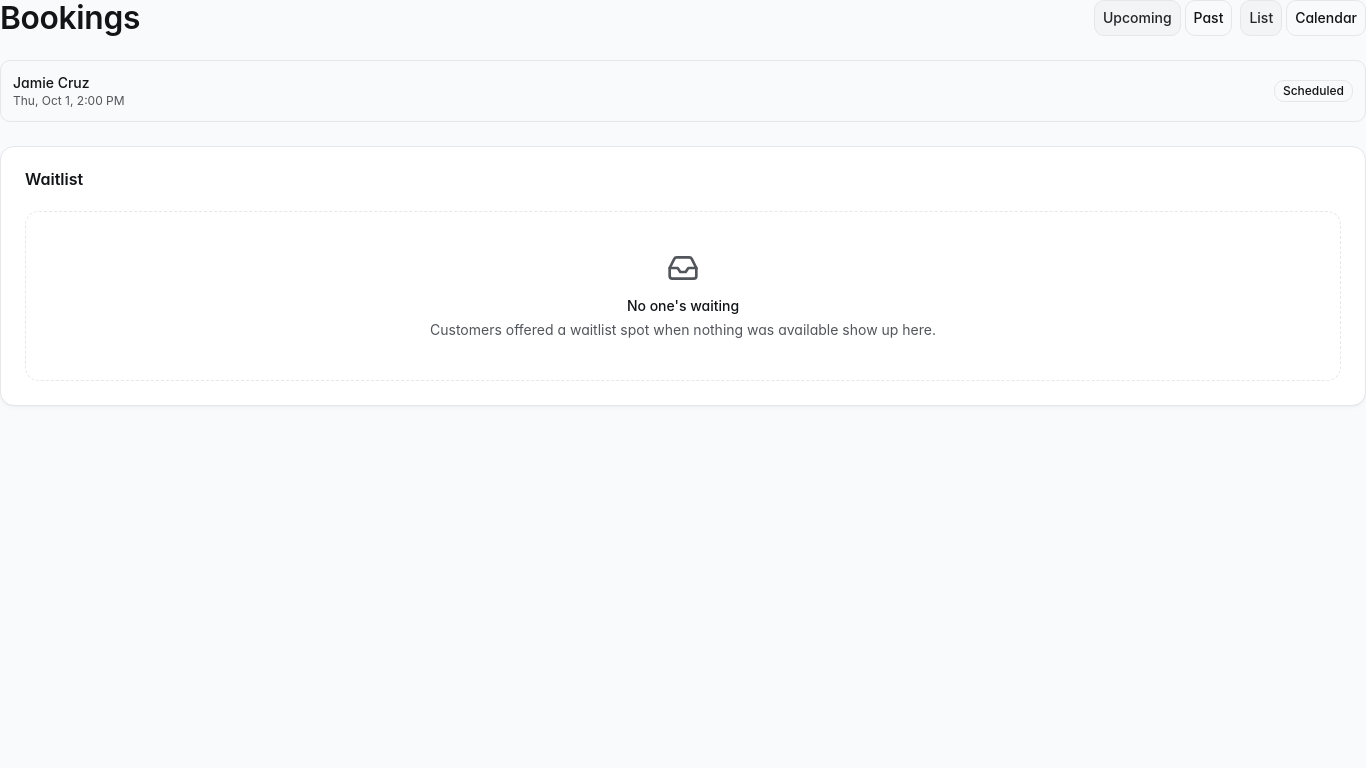
Test case: BookingsPage reschedule (QA-1 F-07 / F-20) › only offers slots from now on and groups them by day in one phone column
Click the text "Jamie Cruz" at (51,83), box [13,74,90,92]
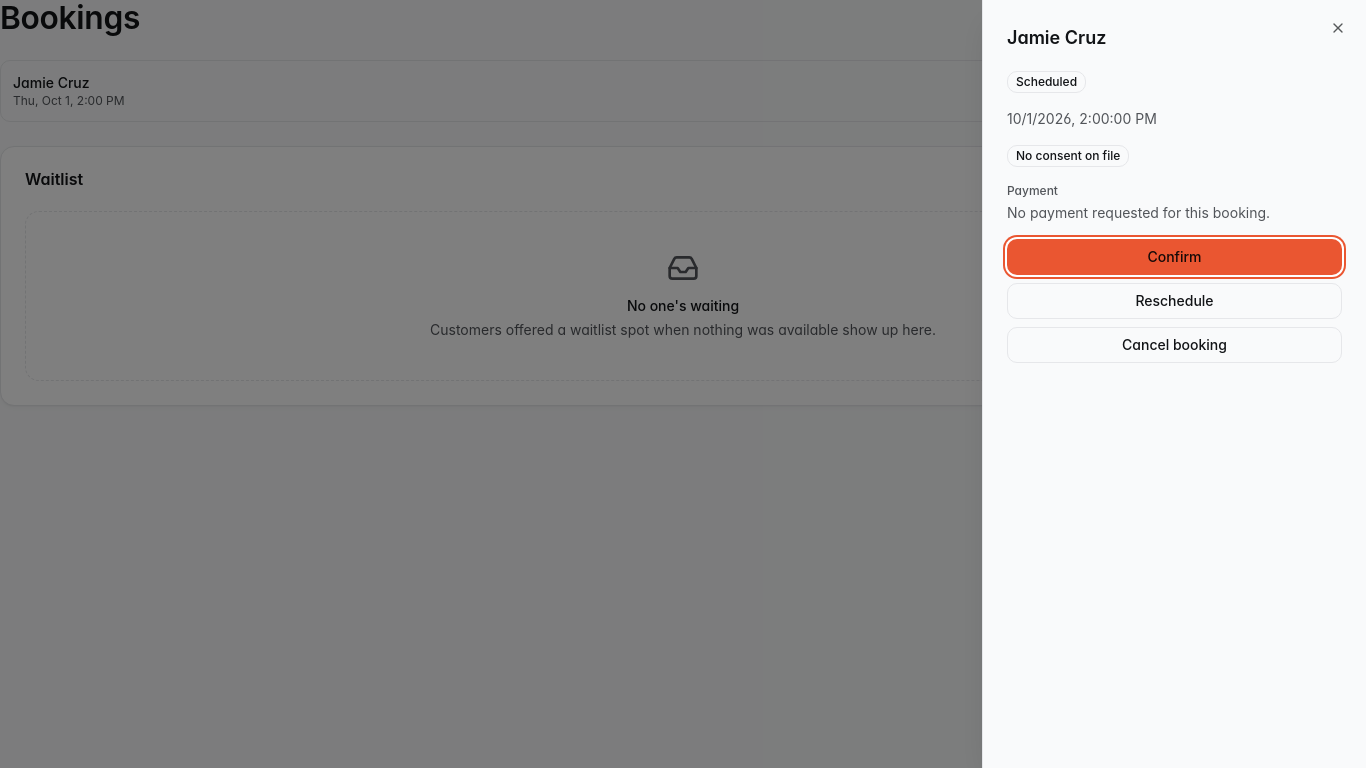
Click the button "Reschedule" at (1174,301), box [1007,283,1342,319]
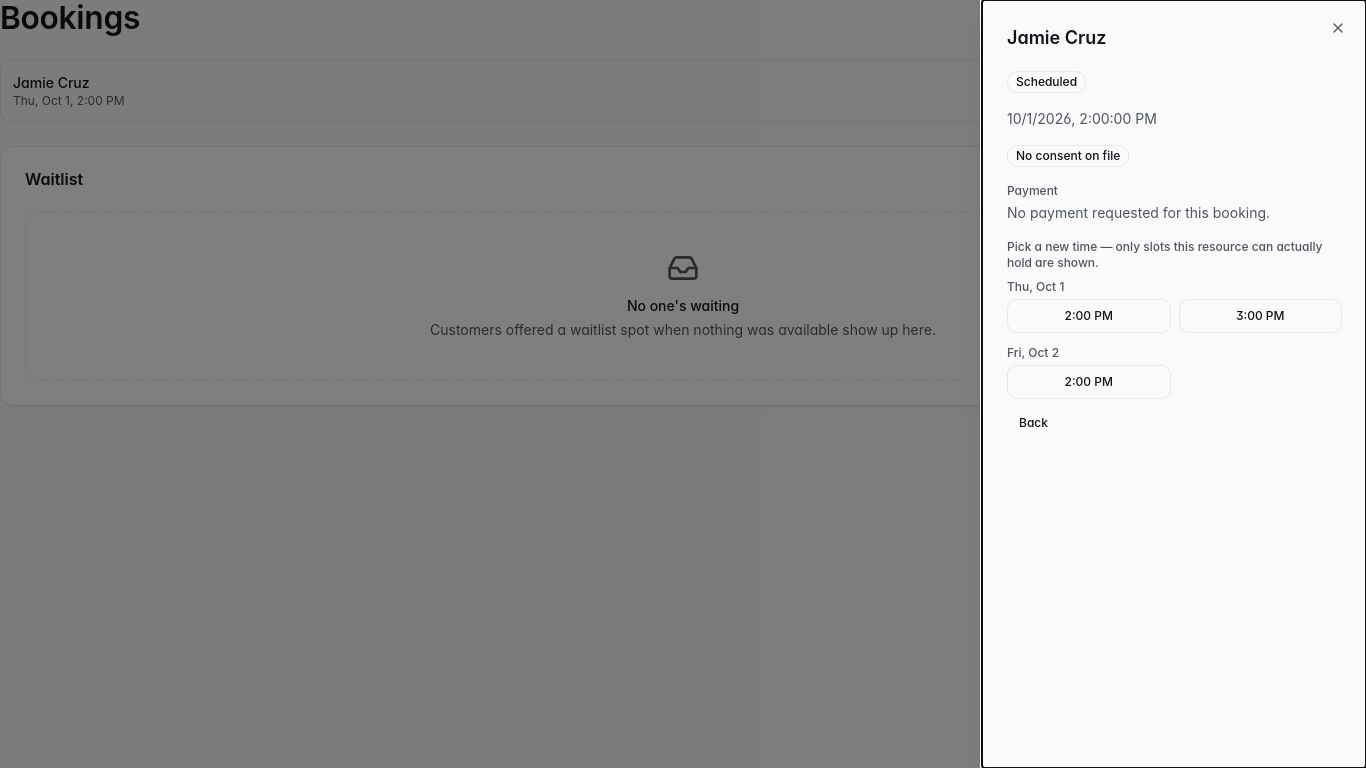
Check: the number of buttons "2:00 PM" is 3, box [1007,299,1170,333]; [1178,299,1342,333]; [1007,365,1170,399]
Check: the text "Thu, Oct 1" is shown 2 times, box [1007,279,1064,294]; [1007,345,1059,360]
